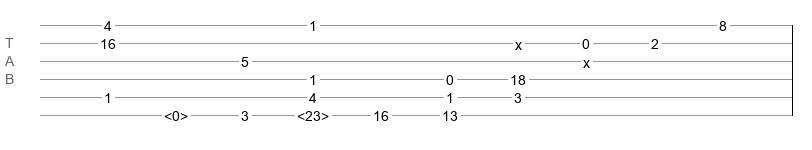0: (446, 72, 454, 82), (582, 36, 590, 46)
1: (104, 90, 112, 100), (309, 18, 317, 28), (309, 72, 317, 82), (446, 90, 454, 100)
13: (442, 108, 458, 118)
16: (100, 36, 116, 46), (373, 108, 389, 118)
18: (510, 72, 526, 82)
2: (651, 36, 659, 46)
3: (241, 108, 249, 118), (514, 90, 522, 100)
4: (104, 18, 112, 28), (309, 90, 317, 100)
5: (241, 54, 249, 64)
8: (719, 18, 727, 28)
harmonic: (297, 108, 329, 118), (164, 108, 188, 118)
x: (515, 37, 522, 45), (583, 55, 590, 63)
